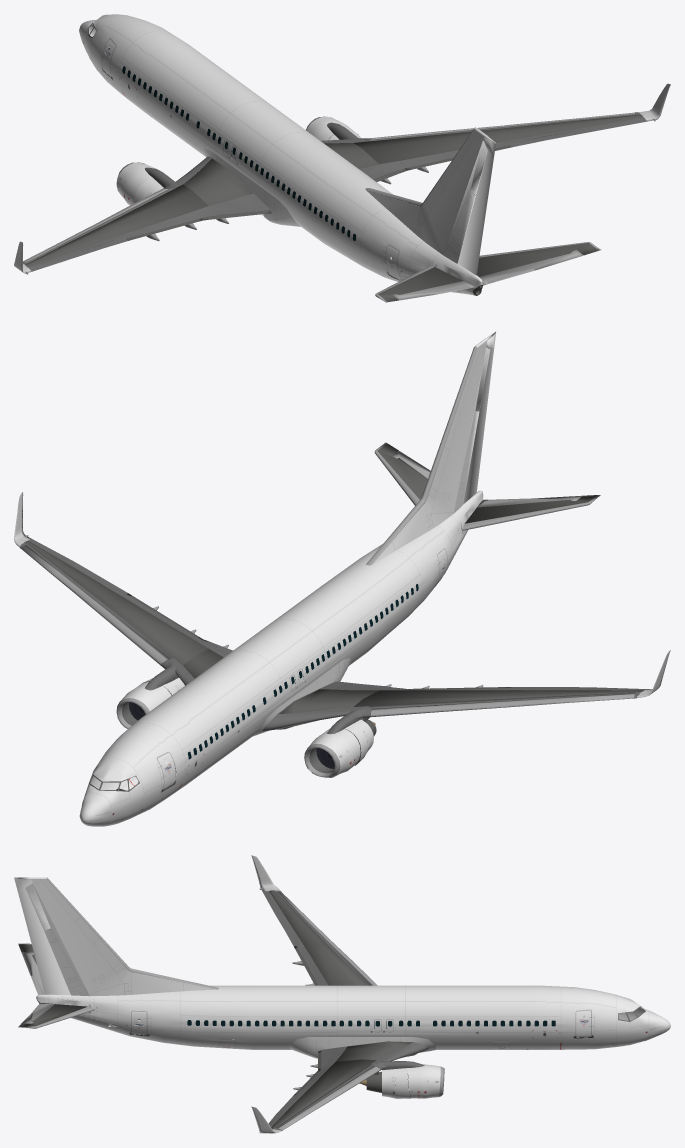
3 renders of one model, top to bottom at view 1: azimuth 30°, elevation 25°; view 2: azimuth 150°, elevation 25°; view 3: azimuth 270°, elevation 25°, orthographic. The views are drawn at different scales.
Parts seen in each view (by area): view 1: fuselage, vstab, obwing_001, obwing, rudder, winginbd, rhstab, lhstab, lhfairing, windowslh, engnose_001, panel1upper (+9 smaller); view 2: fuselage, vstab, obwing_001, obwing, lhstab, winginbd, rudder, vstable, rhstab, engnose_001, windowslh, ible (+3 smaller); view 3: fuselage, vstab, obwing, rudder, obwing_001, rhwtobfairing, windowsrh, No2engfancase, winginbd_001, rhstab, No2reverser, WingletL (+3 smaller).
Part boxes in pixels (x1,y1,x2,y2): fuselage: (79, 14, 482, 295); vstab: (366, 127, 495, 263); obwing_001: (354, 114, 642, 164); obwing: (25, 184, 208, 267); rudder: (457, 137, 495, 275); winginbd: (183, 158, 253, 205); rhstab: (476, 242, 600, 276); lhstab: (375, 266, 462, 302); lhfairing: (203, 148, 300, 226); windowslh: (122, 66, 355, 240); engnose_001: (116, 162, 155, 205); panel1upper: (195, 193, 269, 217); fuselage: (79, 490, 483, 826); vstab: (372, 331, 496, 564); obwing_001: (25, 541, 208, 665); obwing: (354, 690, 642, 706); lhstab: (462, 495, 600, 530); winginbd: (278, 689, 378, 713); rudder: (463, 333, 495, 503); vstable: (366, 346, 476, 565); rhstab: (374, 442, 427, 505); engnose_001: (309, 729, 360, 777); windowslh: (175, 584, 418, 772); ible: (263, 706, 366, 731); fuselage: (36, 985, 670, 1049); vstab: (14, 877, 215, 996); obwing: (269, 890, 367, 985); rudder: (14, 879, 70, 994); obwing_001: (271, 1059, 376, 1129); rhwtobfairing: (289, 1037, 436, 1058); windowsrh: (187, 1020, 555, 1028); No2engfancase: (408, 1064, 440, 1098); winginbd_001: (335, 1041, 412, 1061); rhstab: (18, 1004, 94, 1028); No2reverser: (382, 1068, 410, 1098); WingletL: (251, 855, 280, 1133).
Bounding box in the file's own units: 35.69 × 12.12 × 39.42.
Materials: 94 (17 with a texture image).
